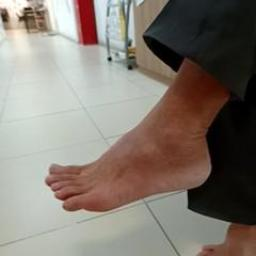Lateral View -Left Foot-: (28, 109, 234, 229)
